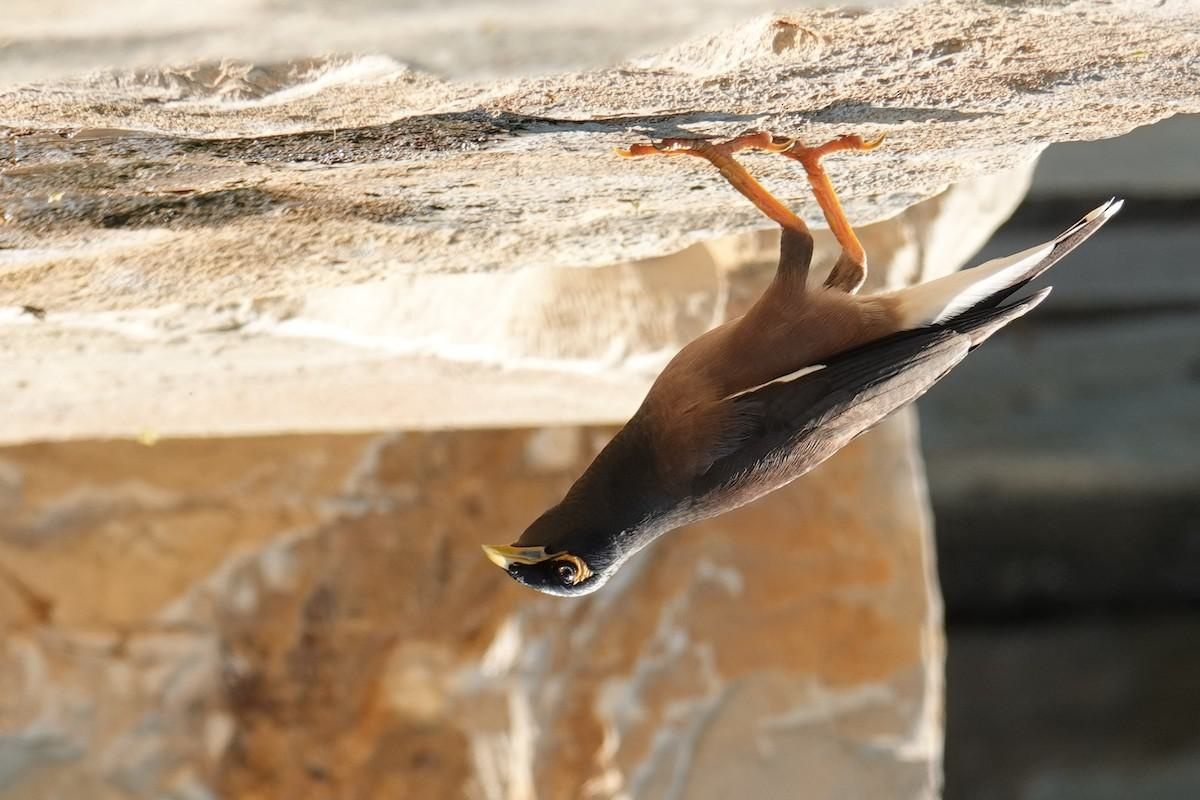myna: (486, 112, 1110, 625)
